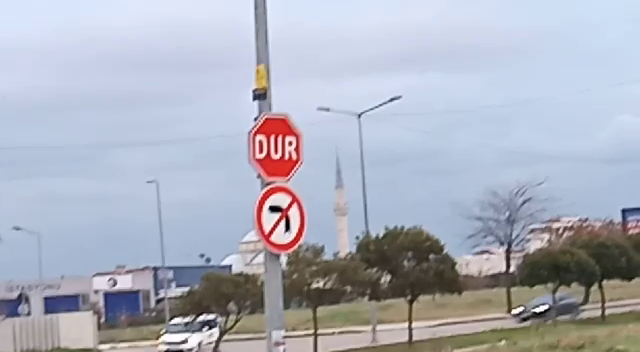no_left: (253, 182, 309, 256)
stop: (246, 111, 306, 184)
